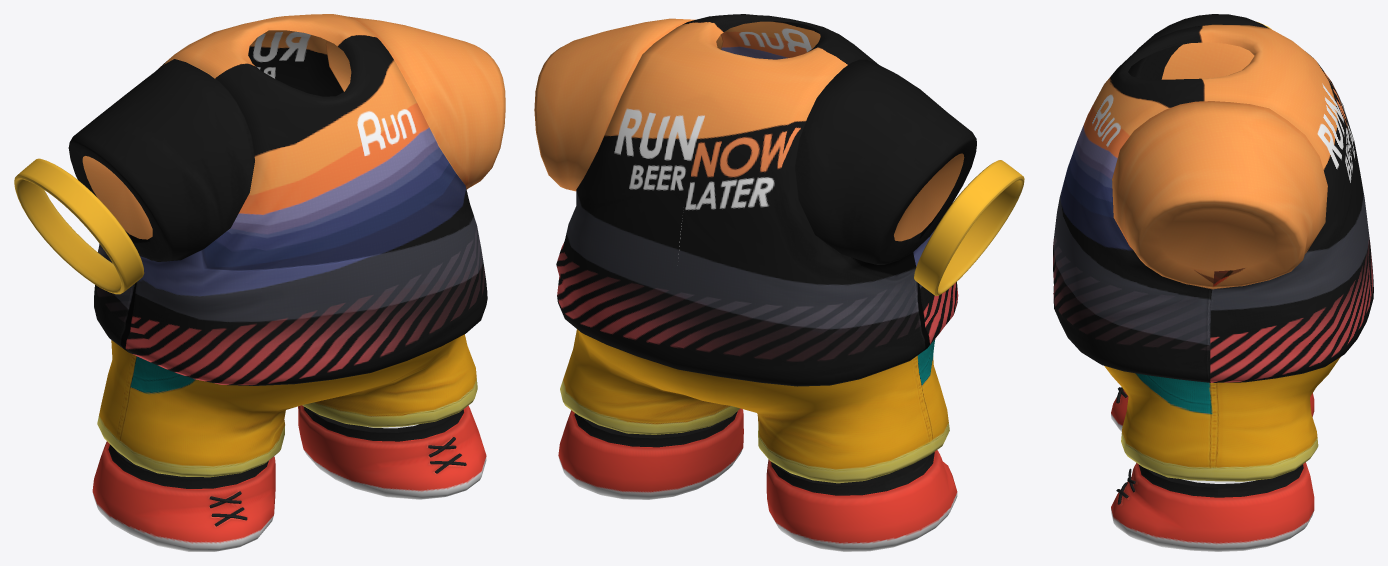
3 views of the same model, side by side, from view 1: azimuth 30°, elevation 25°; view 2: azimuth 150°, elevation 25°; view 3: azimuth 270°, elevation 25° (orthographic). The views are drawn at different scales.
Visible parts, largest first — view 1: OM2dsdas; view 2: OM2dsdas; view 3: OM2dsdas.
Part boxes in pixels (x1=…): OM2dsdas: x1=14, y1=14, x2=505, y2=551; OM2dsdas: x1=534, y1=14, x2=1024, y2=551; OM2dsdas: x1=1053, y1=14, x2=1373, y2=551.
Bounding box in the file's own units: 31.34 × 29.97 × 20.66.
1 material, 1 textured.
